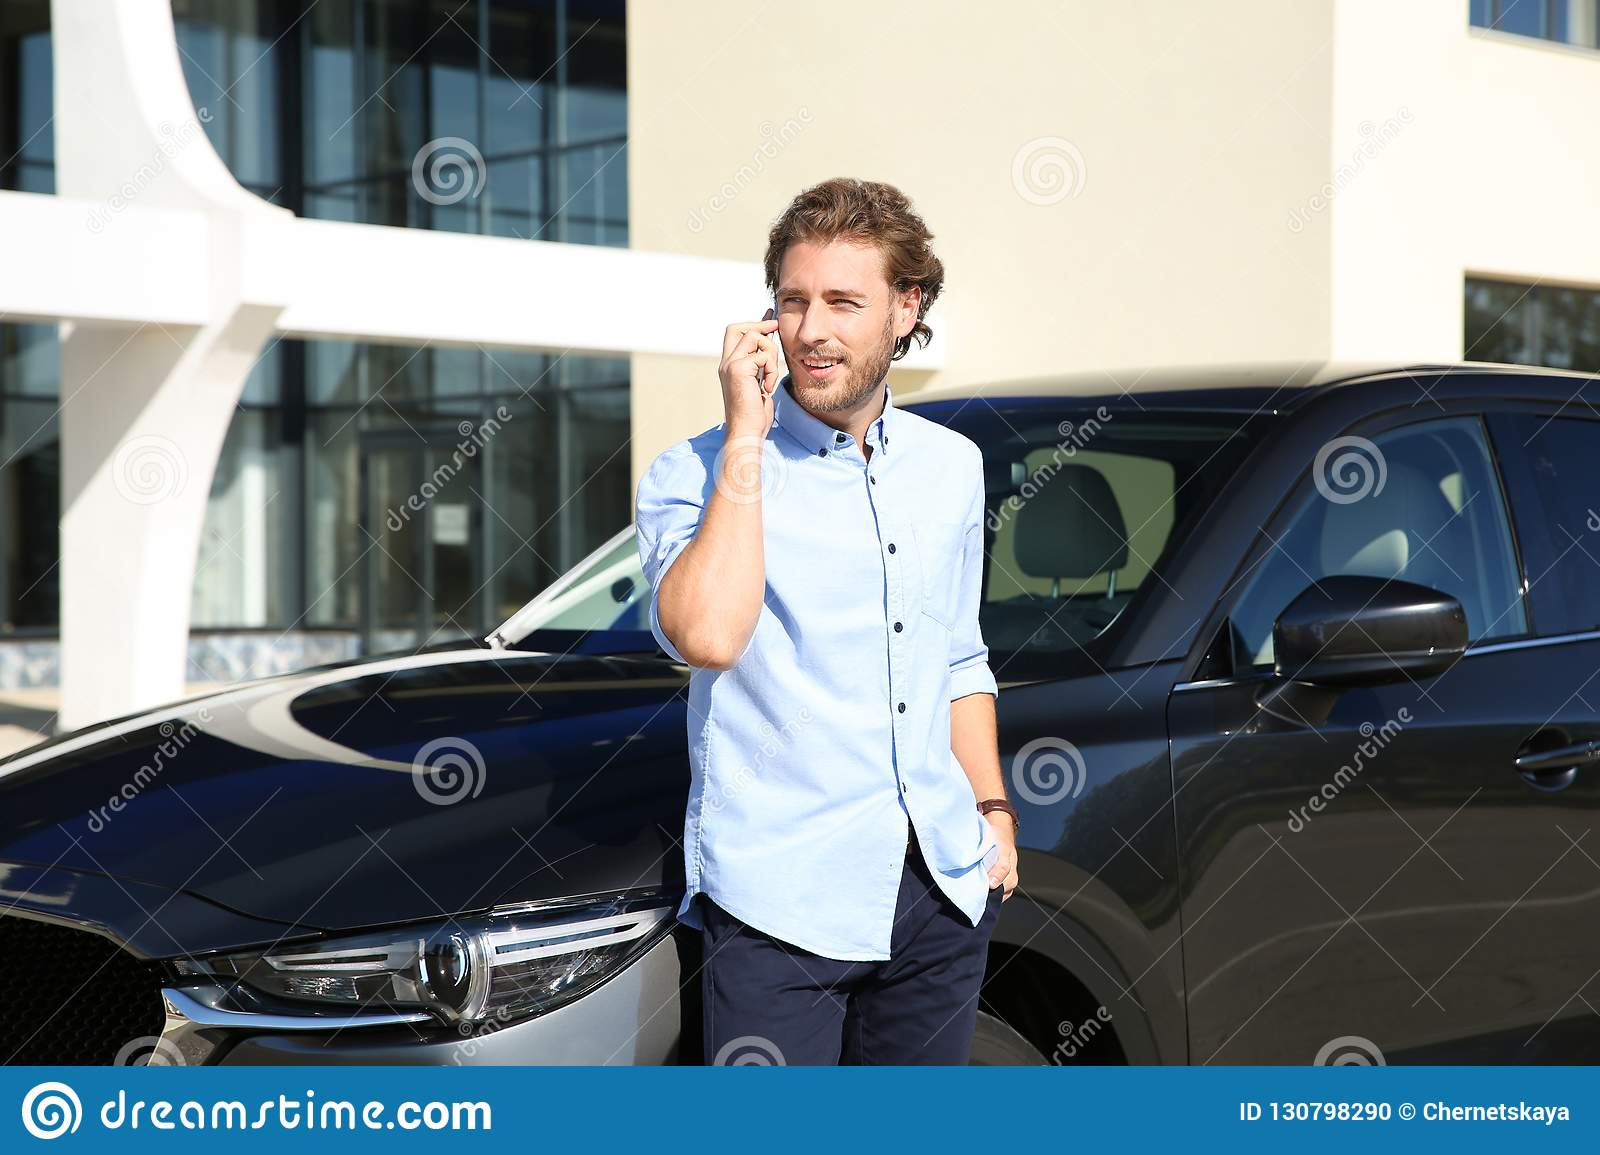phone: (758, 296, 780, 397)
talk: (709, 286, 880, 447)
